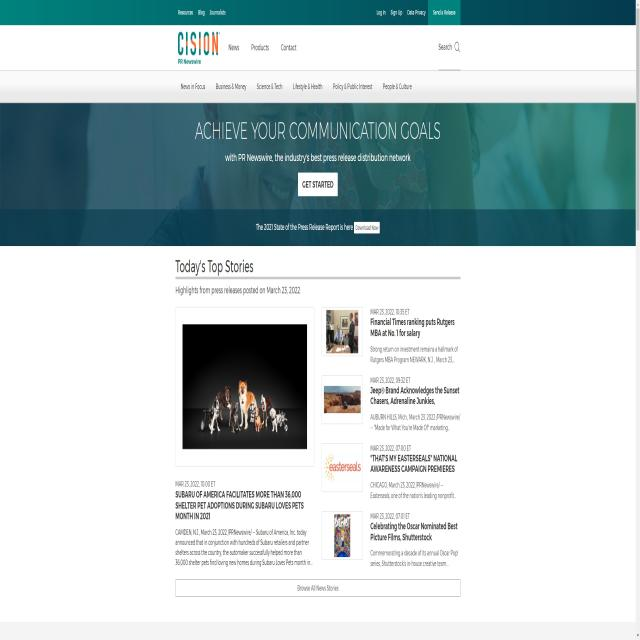tab-bar: (178, 72, 420, 101), (222, 38, 300, 65)
